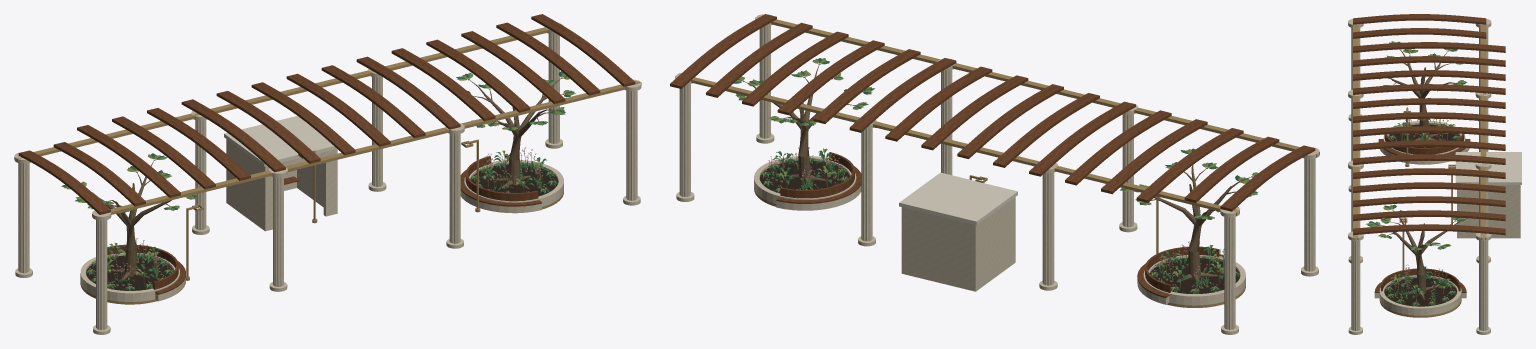
Rendered from G7_Completion_R007B_G7C7_D09_ForeGardenCourt.glb.
3 views of the same model, side by side, from view 1: azimuth 30°, elevation 25°; view 2: azimuth 150°, elevation 25°; view 3: azimuth 270°, elevation 25° (orthographic). The views are drawn at different scales.
Visible parts, largest first — view 1: G7C7_D09_ForeGardenCourt_G7C7_wood_solid_roof, G7C7_D09_ForeGardenCourt_G7C7_stone_solid_frame, G7C7_D09_ForeGardenCourt_G7C7_metal_solid_frame, G7C7_D09_ForeGardenCourt_G7C7_bark_solid_tree_bark, G7C7_D09_ForeGardenCourt_G7C7_soil_solid_planter, G7C7_D09_ForeGardenCourt_G7C7_wood_solid_furniture, G7C7_D09_ForeGardenCourt_G7C7_roof_solid_roof, G7C7_D09_ForeGardenCourt_G7C7_stone_solid_planter, G7C7_D09_ForeGardenCourt_G7C7_metal_solid_fixture, G7C7_D09_ForeGardenCourt_G7C7_stone_solid_furniture, G7C7_D09_ForeGardenCourt_ASTRAEA_botanical_leaf_olive.004_vi, G7C7_D09_ForeGardenCourt_ASTRAEA_botanical_leaf_jade.001_vis (+2 smaller); view 2: G7C7_D09_ForeGardenCourt_G7C7_wood_solid_roof, G7C7_D09_ForeGardenCourt_G7C7_stone_solid_frame, G7C7_D09_ForeGardenCourt_G7C7_metal_solid_frame, G7C7_D09_ForeGardenCourt_G7C7_roof_solid_roof, G7C7_D09_ForeGardenCourt_G7C7_soil_solid_planter, G7C7_D09_ForeGardenCourt_G7C7_bark_solid_tree_bark, G7C7_D09_ForeGardenCourt_G7C7_wood_solid_furniture, G7C7_D09_ForeGardenCourt_G7C7_stone_solid_planter, G7C7_D09_ForeGardenCourt_G7C7_stone_solid_furniture, G7C7_D09_ForeGardenCourt_G7C7_jade_visual_foliage, G7C7_D09_ForeGardenCourt_ASTRAEA_botanical_leaf_olive.004_vi, G7C7_D09_ForeGardenCourt_ASTRAEA_botanical_leaf_jade.001_vis (+1 smaller); view 3: G7C7_D09_ForeGardenCourt_G7C7_wood_solid_roof, G7C7_D09_ForeGardenCourt_G7C7_stone_solid_frame, G7C7_D09_ForeGardenCourt_G7C7_bark_solid_tree_bark, G7C7_D09_ForeGardenCourt_G7C7_soil_solid_planter, G7C7_D09_ForeGardenCourt_G7C7_metal_solid_frame, G7C7_D09_ForeGardenCourt_G7C7_roof_solid_roof, G7C7_D09_ForeGardenCourt_G7C7_stone_solid_planter, G7C7_D09_ForeGardenCourt_G7C7_wood_solid_furniture, G7C7_D09_ForeGardenCourt_G7C7_metal_solid_fixture, G7C7_D09_ForeGardenCourt_ASTRAEA_botanical_leaf_olive.004_vi, G7C7_D09_ForeGardenCourt_G7C7_stone_solid_furniture, G7C7_D09_ForeGardenCourt_G7C7_jade_visual_foliage (+9 smaller).
Boxes of the visible parts, x1,y1,x2,y2 form: G7C7_D09_ForeGardenCourt_G7C7_wood_solid_roof: (18,14,635,214); G7C7_D09_ForeGardenCourt_G7C7_stone_solid_frame: (14,23,641,334); G7C7_D09_ForeGardenCourt_G7C7_metal_solid_frame: (14,27,641,218); G7C7_D09_ForeGardenCourt_G7C7_bark_solid_tree_bark: (92,77,563,282); G7C7_D09_ForeGardenCourt_G7C7_soil_solid_planter: (86,164,558,290); G7C7_D09_ForeGardenCourt_G7C7_wood_solid_furniture: (107,156,541,294); G7C7_D09_ForeGardenCourt_G7C7_roof_solid_roof: (224,116,336,166); G7C7_D09_ForeGardenCourt_G7C7_stone_solid_planter: (80,160,563,301); G7C7_D09_ForeGardenCourt_G7C7_metal_solid_fixture: (186,139,480,280); G7C7_D09_ForeGardenCourt_G7C7_stone_solid_furniture: (155,190,541,301); G7C7_D09_ForeGardenCourt_ASTRAEA_botanical_leaf_olive.004_vi: (113,148,542,284); G7C7_D09_ForeGardenCourt_ASTRAEA_botanical_leaf_jade.001_vis: (107,153,548,277); G7C7_D09_ForeGardenCourt_G7C7_wood_solid_roof: (670,14,1315,211); G7C7_D09_ForeGardenCourt_G7C7_stone_solid_frame: (675,14,1319,334); G7C7_D09_ForeGardenCourt_G7C7_metal_solid_frame: (675,15,1319,215); G7C7_D09_ForeGardenCourt_G7C7_roof_solid_roof: (899,172,1017,225); G7C7_D09_ForeGardenCourt_G7C7_soil_solid_planter: (759,160,1240,293); G7C7_D09_ForeGardenCourt_G7C7_bark_solid_tree_bark: (742,63,1253,282); G7C7_D09_ForeGardenCourt_G7C7_wood_solid_furniture: (776,152,1223,297); G7C7_D09_ForeGardenCourt_G7C7_stone_solid_planter: (754,156,1245,305); G7C7_D09_ForeGardenCourt_G7C7_stone_solid_furniture: (776,185,1169,304); G7C7_D09_ForeGardenCourt_G7C7_jade_visual_foliage: (734,58,1257,219); G7C7_D09_ForeGardenCourt_ASTRAEA_botanical_leaf_olive.004_vi: (769,154,1223,288); G7C7_D09_ForeGardenCourt_ASTRAEA_botanical_leaf_jade.001_vis: (775,150,1224,282); G7C7_D09_ForeGardenCourt_G7C7_wood_solid_roof: (1353,14,1505,235); G7C7_D09_ForeGardenCourt_G7C7_stone_solid_frame: (1348,19,1520,334); G7C7_D09_ForeGardenCourt_G7C7_bark_solid_tree_bark: (1375,49,1467,300); G7C7_D09_ForeGardenCourt_G7C7_soil_solid_planter: (1384,124,1460,306); G7C7_D09_ForeGardenCourt_G7C7_metal_solid_frame: (1353,25,1486,239); G7C7_D09_ForeGardenCourt_G7C7_roof_solid_roof: (1455,152,1521,184); G7C7_D09_ForeGardenCourt_G7C7_stone_solid_planter: (1379,121,1465,315); G7C7_D09_ForeGardenCourt_G7C7_wood_solid_furniture: (1374,133,1470,292); G7C7_D09_ForeGardenCourt_G7C7_metal_solid_fixture: (1399,107,1455,269); G7C7_D09_ForeGardenCourt_ASTRAEA_botanical_leaf_olive.004_vi: (1394,119,1447,299); G7C7_D09_ForeGardenCourt_G7C7_stone_solid_furniture: (1374,148,1469,298); G7C7_D09_ForeGardenCourt_G7C7_jade_visual_foliage: (1367,41,1467,250).
Size of the model in its own units: 27.22 by 6 by 9.12.
Materials: 24 (23 with a texture image).
